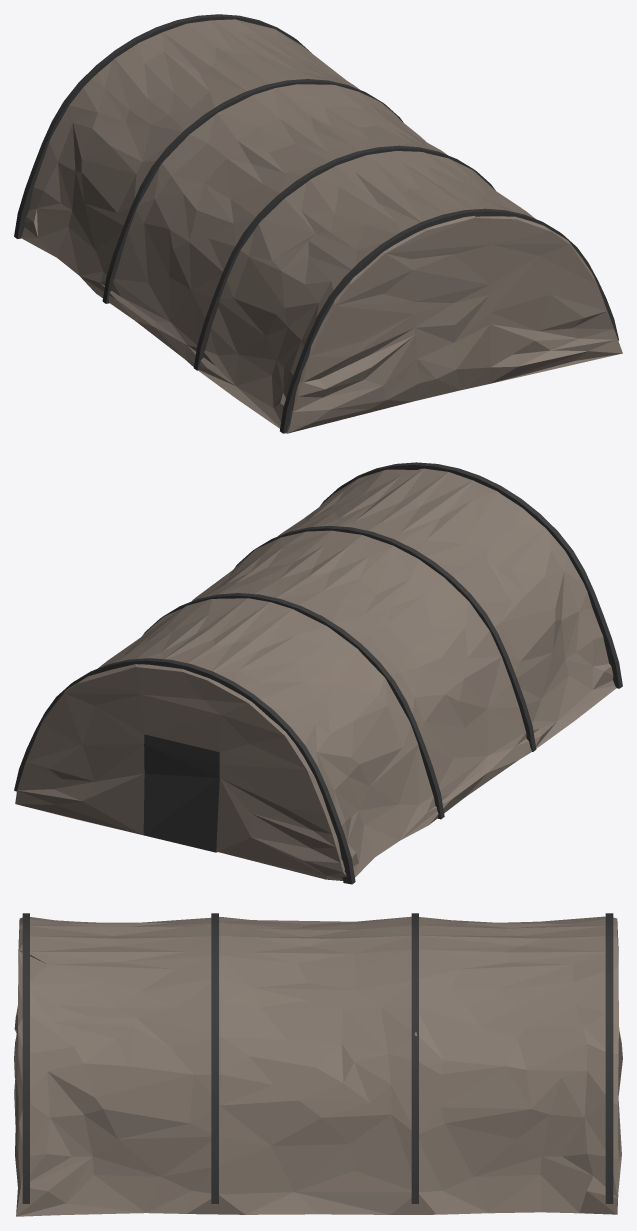
Rendered from model_military_tent_desert.fbx.
3 views of the same model, one above another, from view 1: azimuth 30°, elevation 25°; view 2: azimuth 150°, elevation 25°; view 3: azimuth 270°, elevation 25° (orthographic). The views are drawn at different scales.
Parts seen in each view (by area): view 1: model_military_tent_desert; view 2: model_military_tent_desert; view 3: model_military_tent_desert.
Boxes of the visible parts, bbox=[...] form: model_military_tent_desert: bbox=[14, 14, 622, 433]; model_military_tent_desert: bbox=[14, 462, 622, 884]; model_military_tent_desert: bbox=[14, 913, 622, 1216].
Size of the model in its own units: 749 by 377 by 1068.
Materials: 1 (1 with a texture image).
